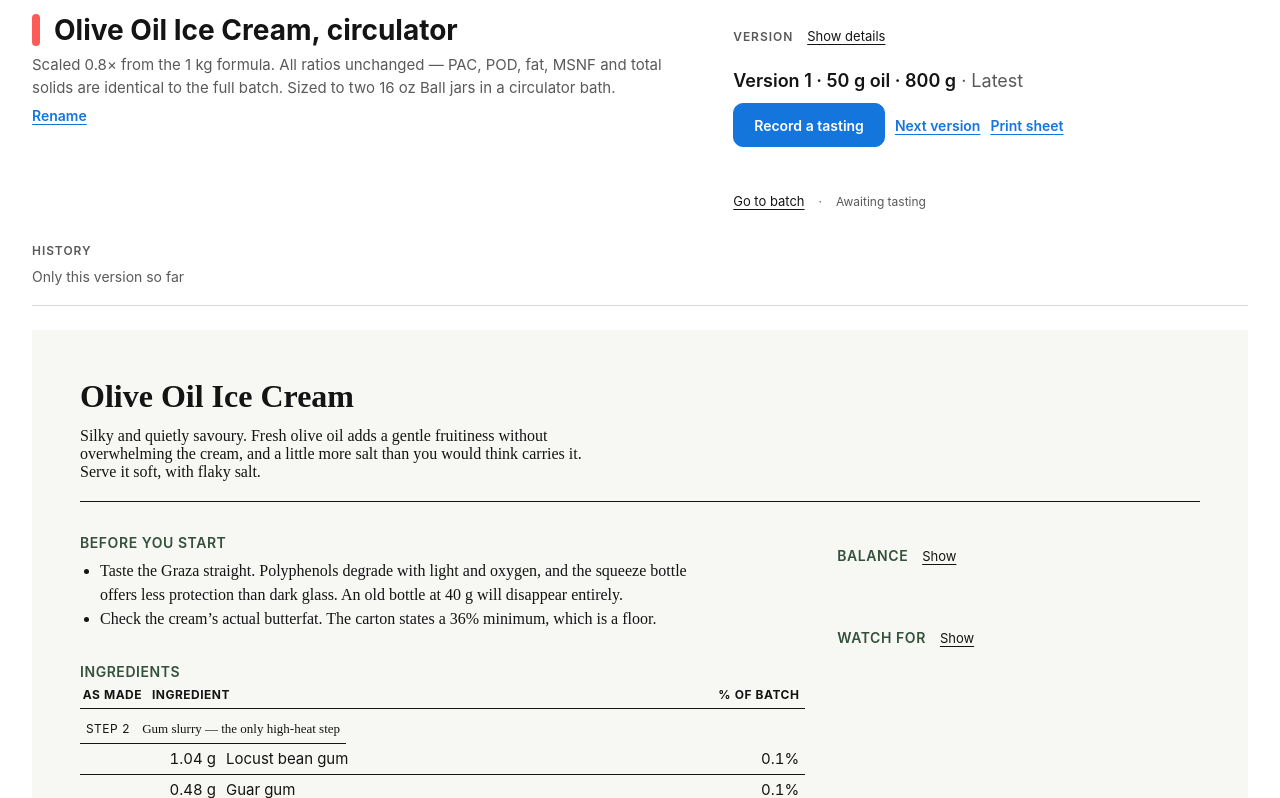
Scenario: Record a tasting opens the amend pen on Add tasting (261002-wn0) › T2: Cancel closes the pen, writes nothing and returns focus to the band
Click the button with class "notebook-action": (809, 125) x1=733 y1=103 x2=885 y2=147
(page scrolled)
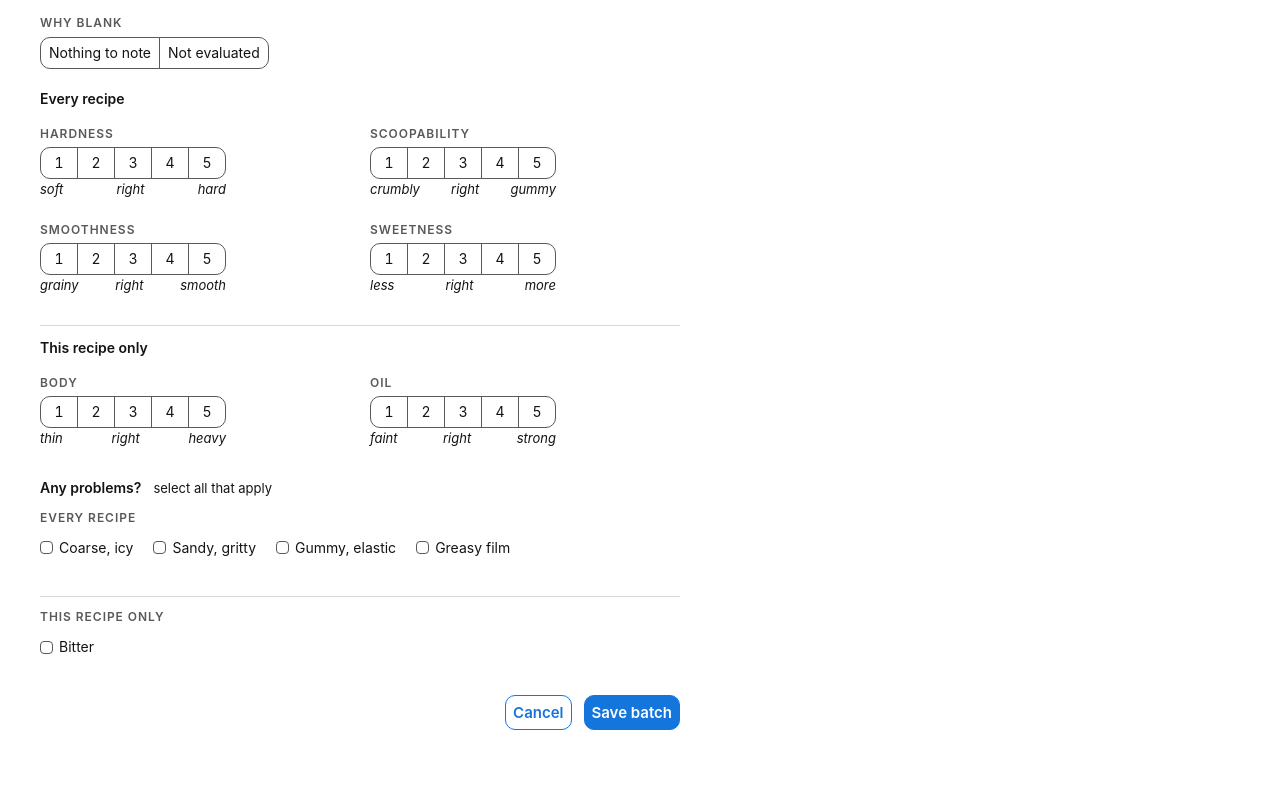
Click the button "Cancel": (538, 713) x1=505 y1=695 x2=572 y2=730
(page scrolled)
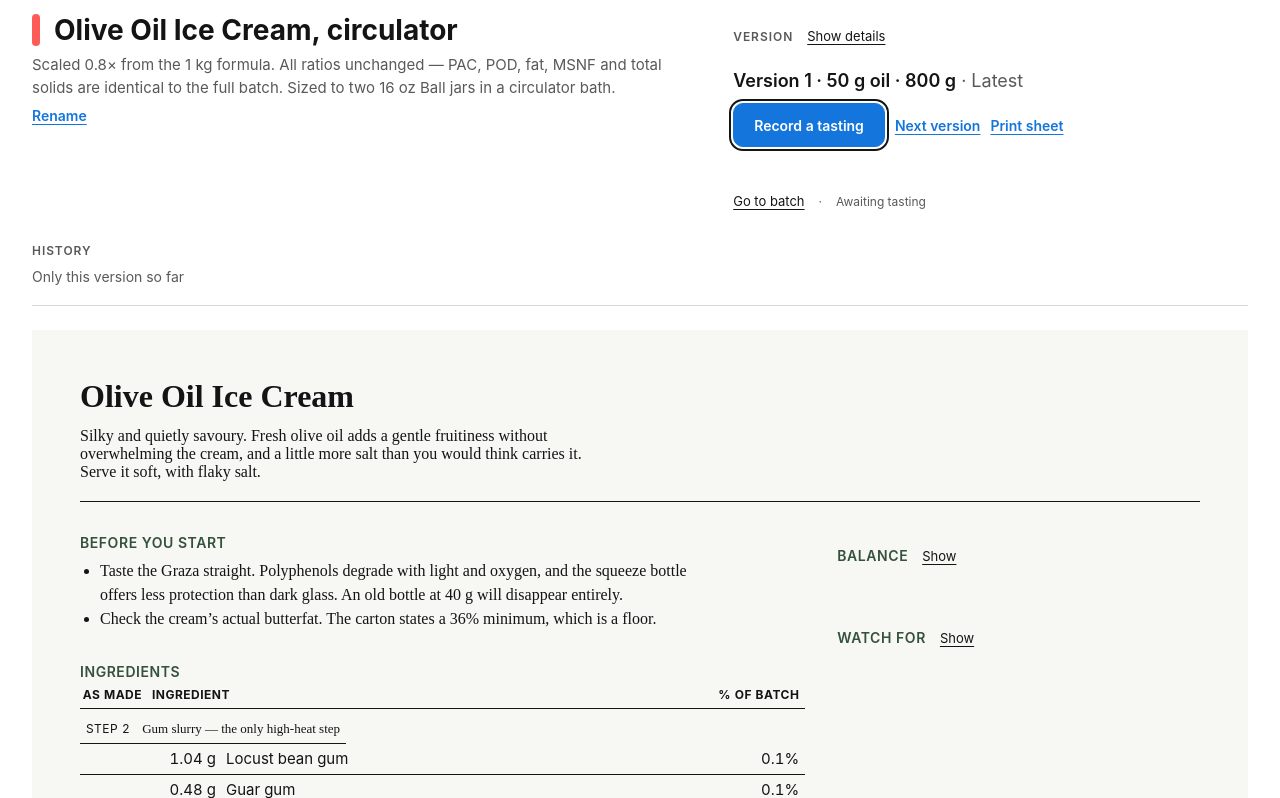
Check: the button with class "notebook-action" reads "Record a tasting", box x1=733 y1=103 x2=885 y2=147
